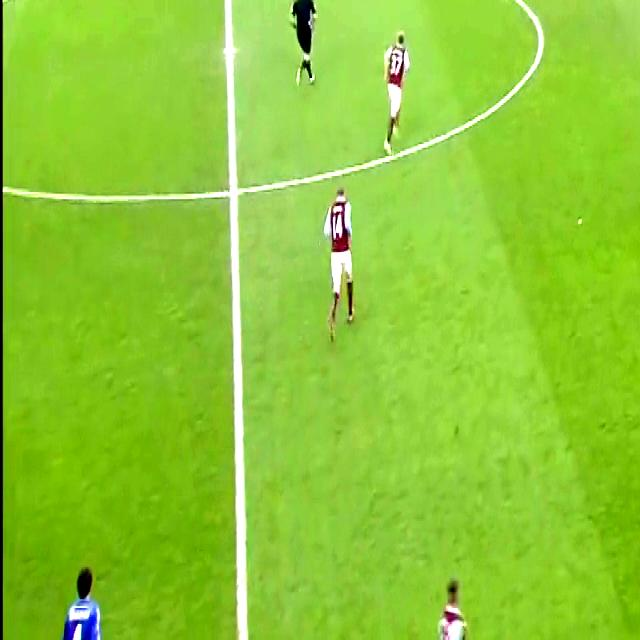referee: (285, 0, 322, 96)
soccer-player: (314, 174, 360, 339), (378, 20, 418, 158), (46, 557, 108, 640), (427, 569, 472, 640)
